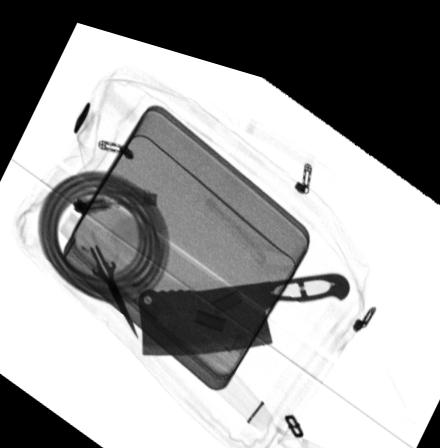Knife: (137, 251, 350, 347)
Scissors: (69, 218, 136, 330)
